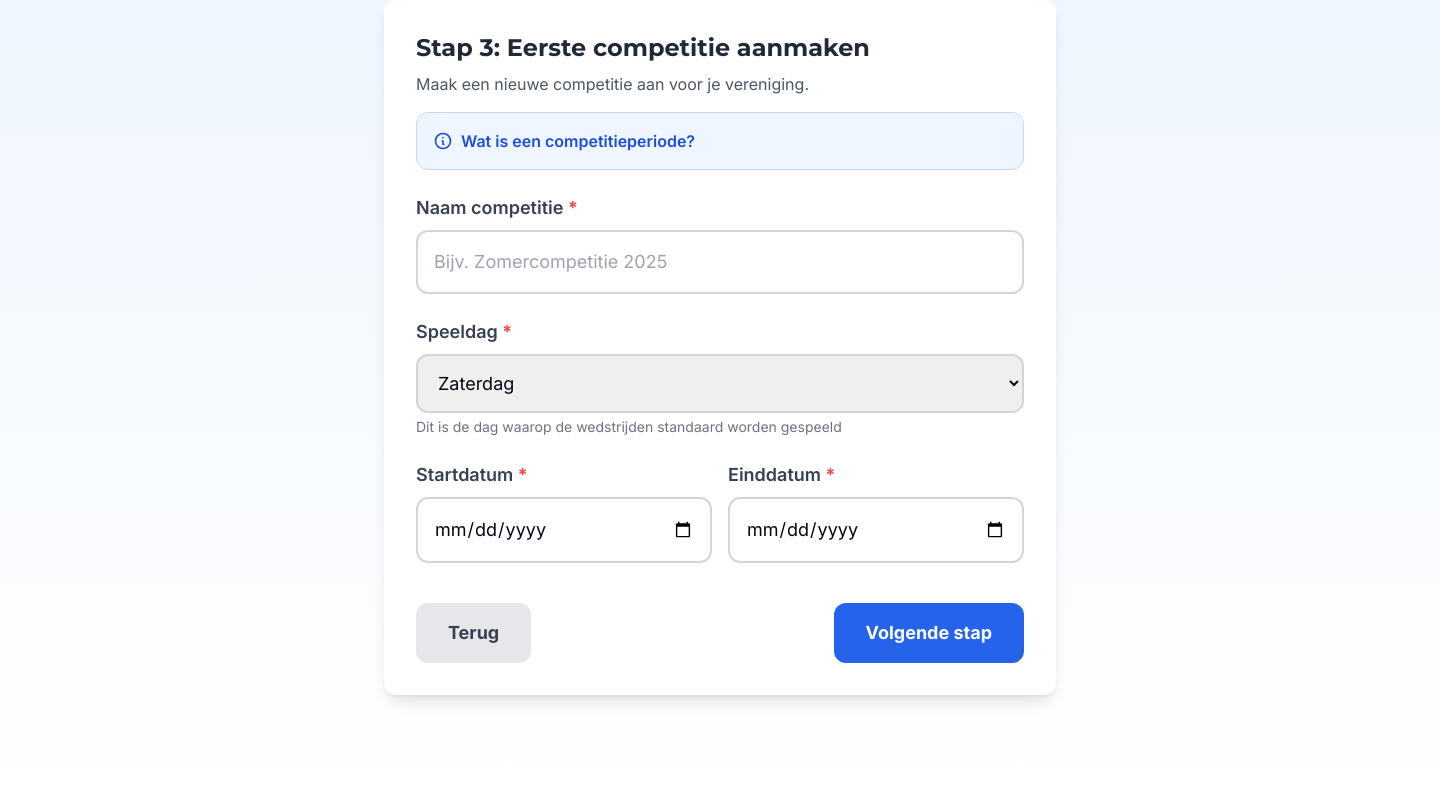
Test: CompetitionStep › Zod validation (onBlur) › should show error for empty start date
Click the date field labelled "Startdatum *" at [564, 530], box top-left (416, 497), bottom-right (712, 563)
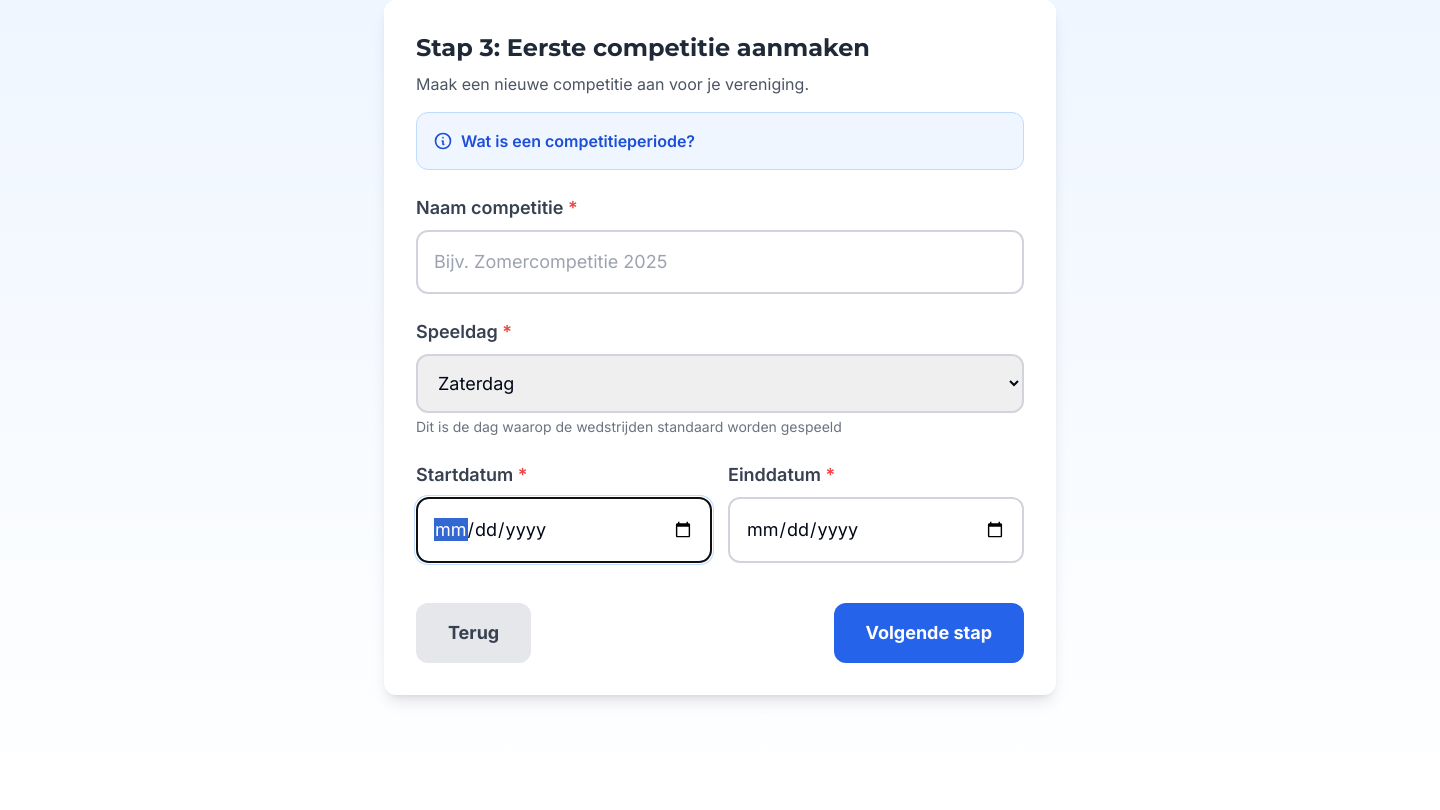
Press Tab
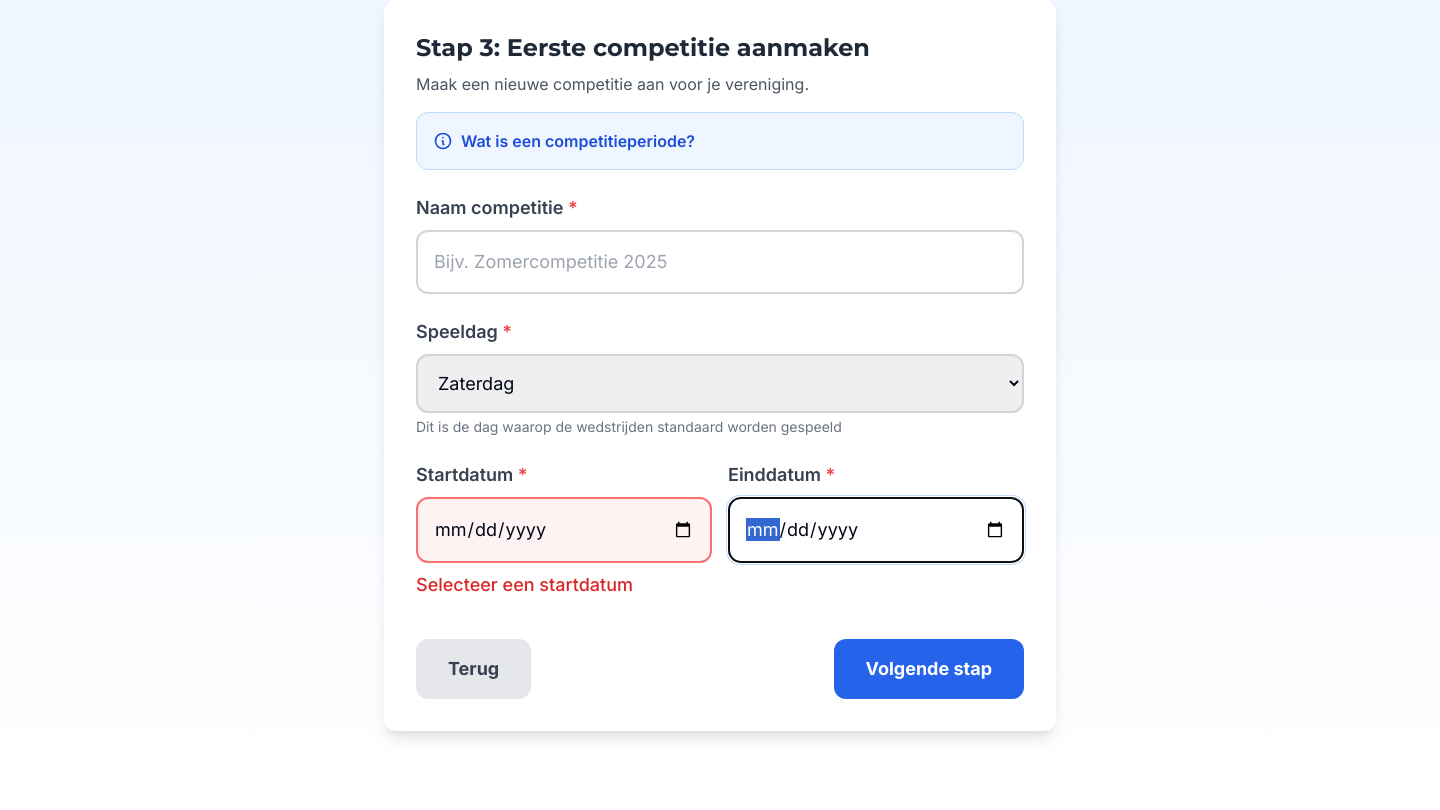
Result: the text "Selecteer een startdatum" is shown at top-left (416, 574), bottom-right (633, 595)
